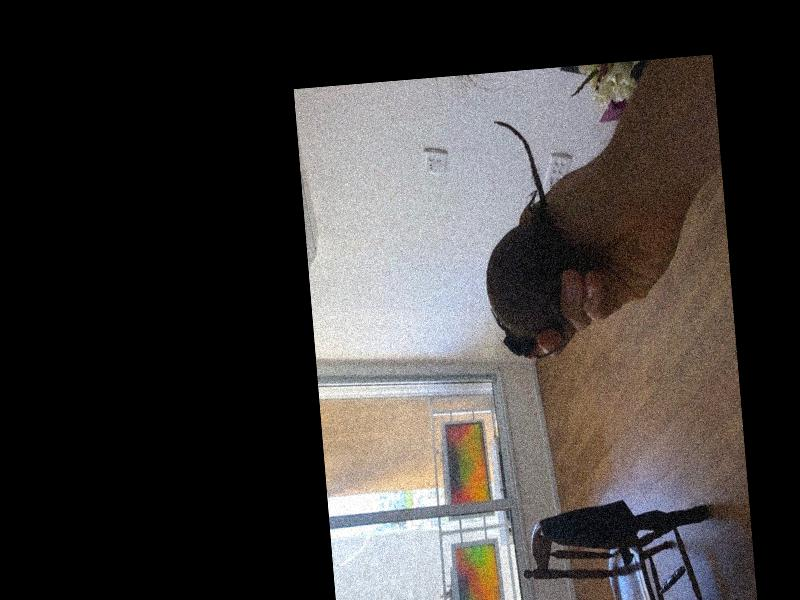Beet: (474, 118, 572, 363)
